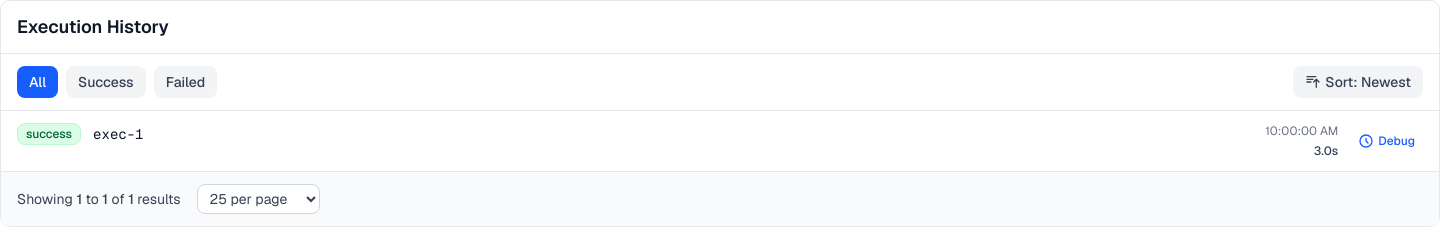
ExecutionHistoryPanel › Empty States › shows filtered empty state when filter has no results
This screenshot has width=1440, height=244.
Click the button "Failed": (185, 82) [154,66,217,98]
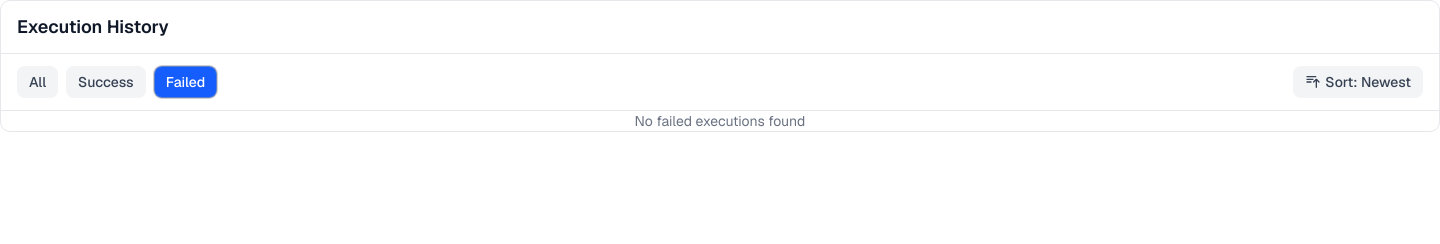
Now the text "No failed executions found" is shown, box [635,111,805,131]
